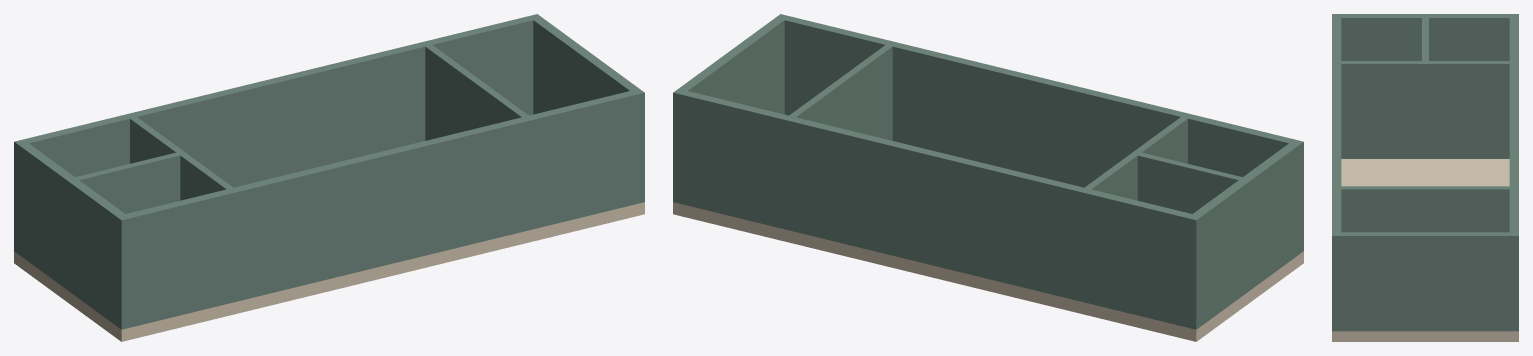
3 renders of one model, left to right at view 1: azimuth 30°, elevation 25°; view 2: azimuth 150°, elevation 25°; view 3: azimuth 270°, elevation 25°, orthographic. The views are drawn at different scales.
Visible parts, largest first — view 1: storage-upper-front, storage-upper-back, storage-upper-left, storage-roof, storage-upper-right, storage-divider-right, storage-divider-cross-left, storage-divider-left; view 2: storage-upper-back, storage-upper-front, storage-upper-left, storage-roof, storage-upper-right, storage-divider-right, storage-divider-cross-left, storage-divider-left; view 3: storage-upper-right, storage-divider-left, storage-divider-right, storage-upper-left, storage-roof, storage-upper-back, storage-upper-front, storage-divider-cross-left.
Boxes of the visible parts, x1=… form: storage-upper-front: x1=126, y1=91, x2=635, y2=327; storage-upper-back: x1=24, y1=16, x2=533, y2=187; storage-upper-left: x1=14, y1=139, x2=130, y2=329; storage-roof: x1=14, y1=202, x2=644, y2=341; storage-upper-right: x1=528, y1=14, x2=644, y2=204; storage-divider-right: x1=425, y1=45, x2=528, y2=140; storage-divider-cross-left: x1=75, y1=152, x2=180, y2=213; storage-divider-left: x1=130, y1=117, x2=233, y2=200; storage-upper-back: x1=682, y1=91, x2=1191, y2=327; storage-upper-front: x1=784, y1=16, x2=1293, y2=187; storage-upper-left: x1=1187, y1=139, x2=1303, y2=329; storage-roof: x1=673, y1=202, x2=1303, y2=341; storage-upper-right: x1=673, y1=14, x2=789, y2=204; storage-divider-right: x1=789, y1=45, x2=892, y2=140; storage-divider-cross-left: x1=1137, y1=152, x2=1242, y2=213; storage-divider-left: x1=1084, y1=117, x2=1187, y2=200; storage-upper-right: x1=1332, y1=232, x2=1518, y2=331; storage-divider-left: x1=1341, y1=61, x2=1509, y2=158; storage-divider-right: x1=1341, y1=186, x2=1509, y2=232; storage-upper-left: x1=1332, y1=14, x2=1518, y2=60; storage-roof: x1=1332, y1=159, x2=1518, y2=341; storage-upper-back: x1=1509, y1=18, x2=1518, y2=232; storage-upper-front: x1=1332, y1=18, x2=1341, y2=232; storage-divider-cross-left: x1=1422, y1=18, x2=1428, y2=60.
Bounding box in the file's own units: 0.45 × 0.1 × 0.16.
